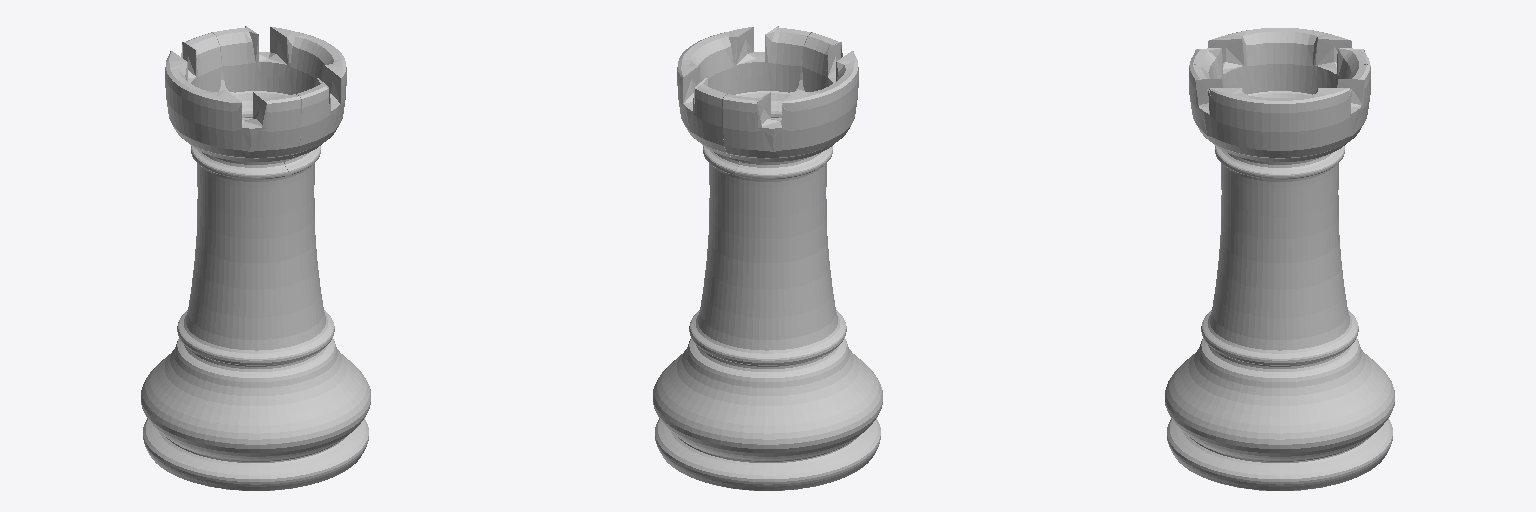
The model's file is rook.obj.
The picture shows the model from 3 angles: view 1: azimuth 30°, elevation 25°; view 2: azimuth 150°, elevation 25°; view 3: azimuth 270°, elevation 25°; orthographic projection.
Parts seen in each view (by area): view 1: rook_Cylinder.030; view 2: rook_Cylinder.030; view 3: rook_Cylinder.030.
Boxes of the visible parts, box(x1,y1,x2,y2) form: rook_Cylinder.030: box(141, 26, 370, 490); rook_Cylinder.030: box(653, 26, 882, 490); rook_Cylinder.030: box(1165, 28, 1394, 490).
Bounding box in the file's own units: 1.18 × 2.18 × 1.18.